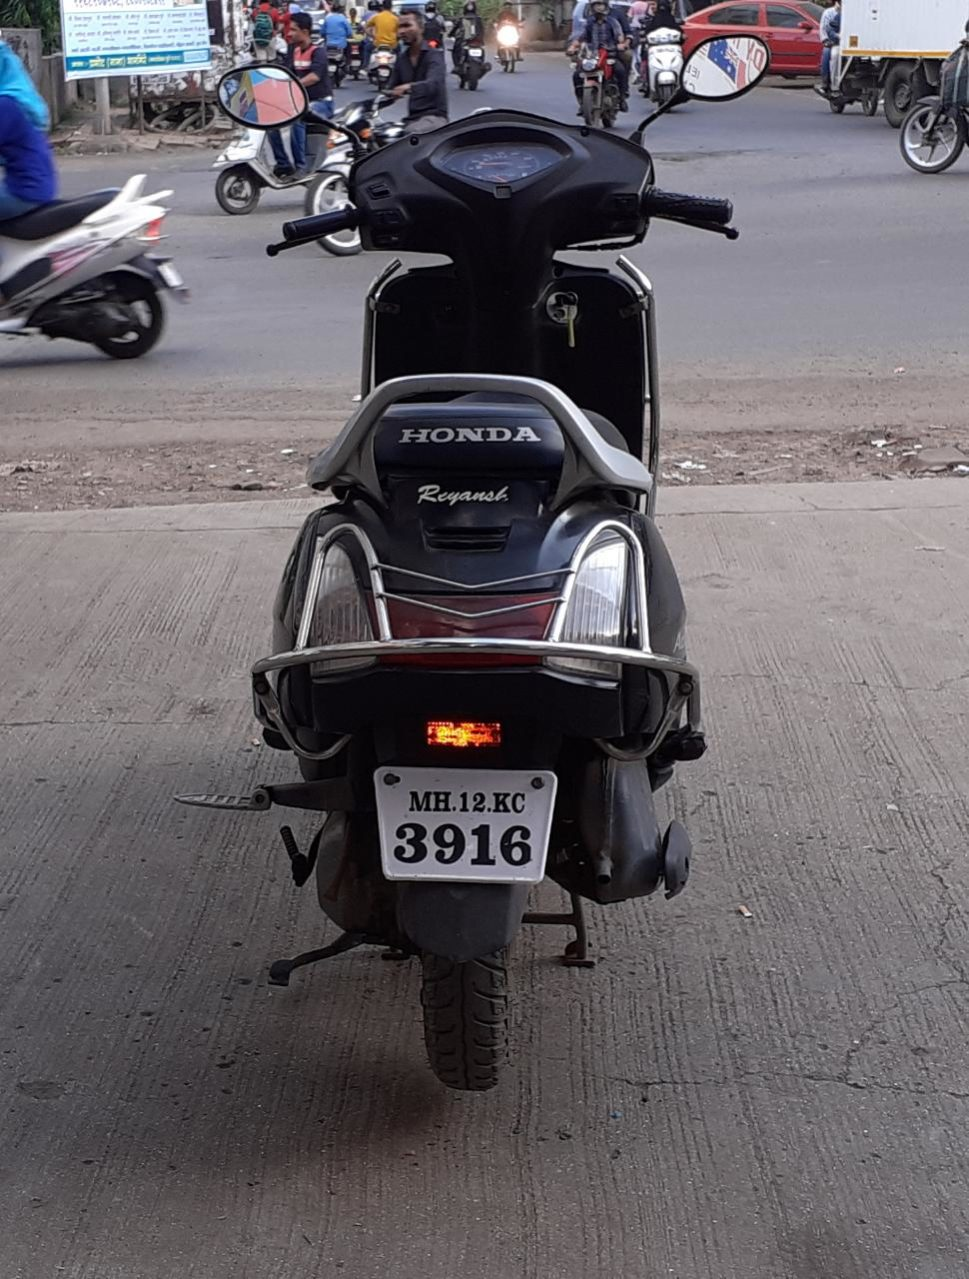doublelinenumberplate: (366, 759, 560, 884)
